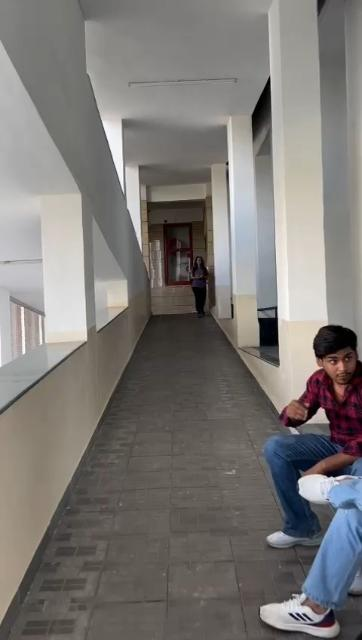floor: (7, 315, 271, 633)
moving-obj: (276, 326, 362, 640), (189, 256, 209, 314)
wall: (0, 287, 154, 615), (277, 8, 323, 310), (322, 7, 362, 317), (42, 124, 84, 336), (230, 74, 262, 296), (214, 166, 230, 286), (106, 121, 122, 177), (129, 167, 139, 239)
